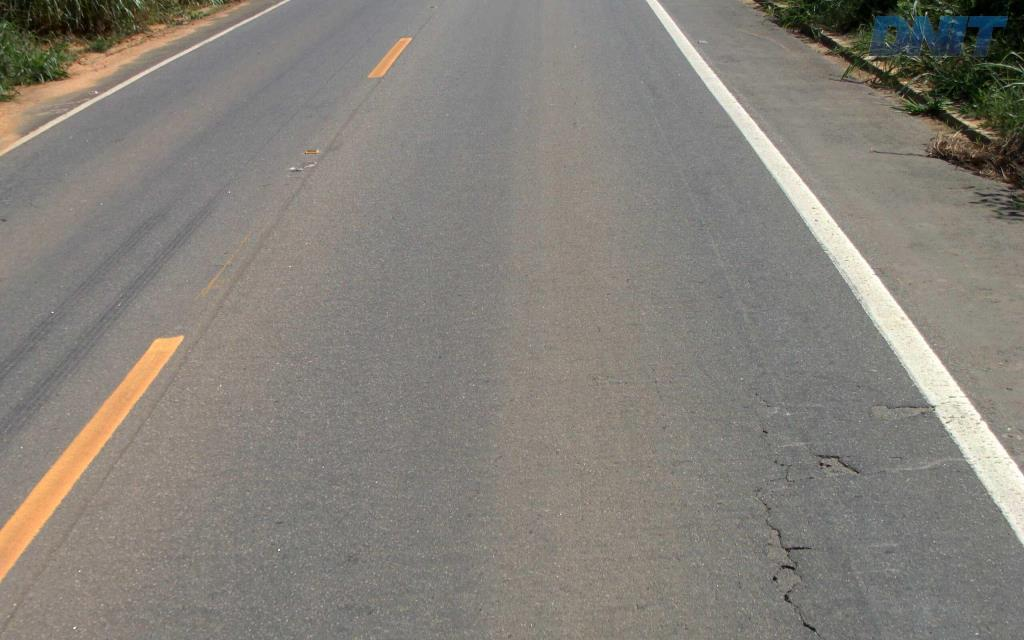crack: (765, 519, 816, 581)
